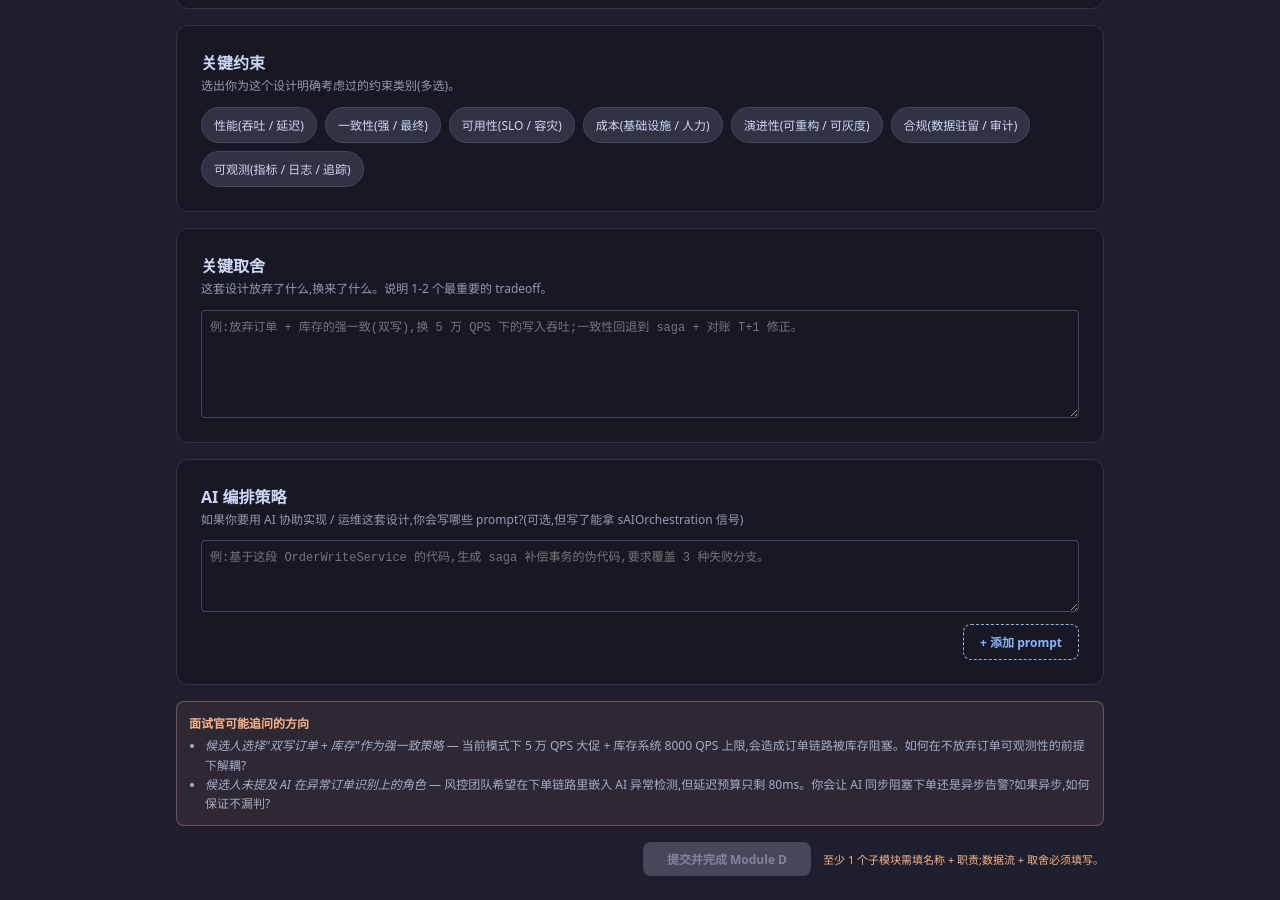
Test: <ModuleDPage /> › dynamic AI orchestration prompts › adds a prompt row on "+ 添加 prompt"
(page scrolled)
Step 1. Click the button with test id "md-add-ai-orchestration" → click(1021, 642), box [963, 624, 1079, 660]
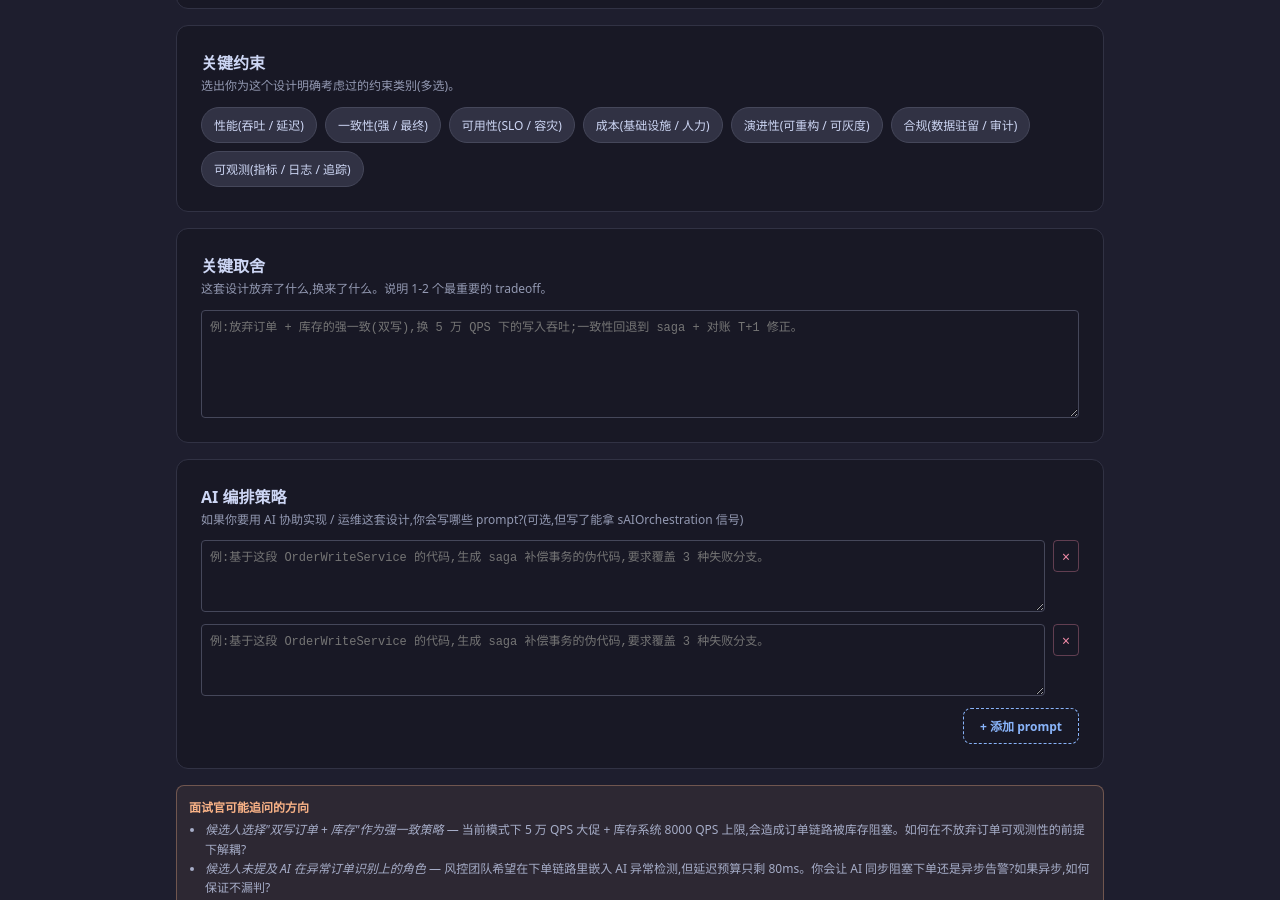
Now the text box with test id "md-ai-orchestration-1" is shown, box [201, 624, 1045, 696]
